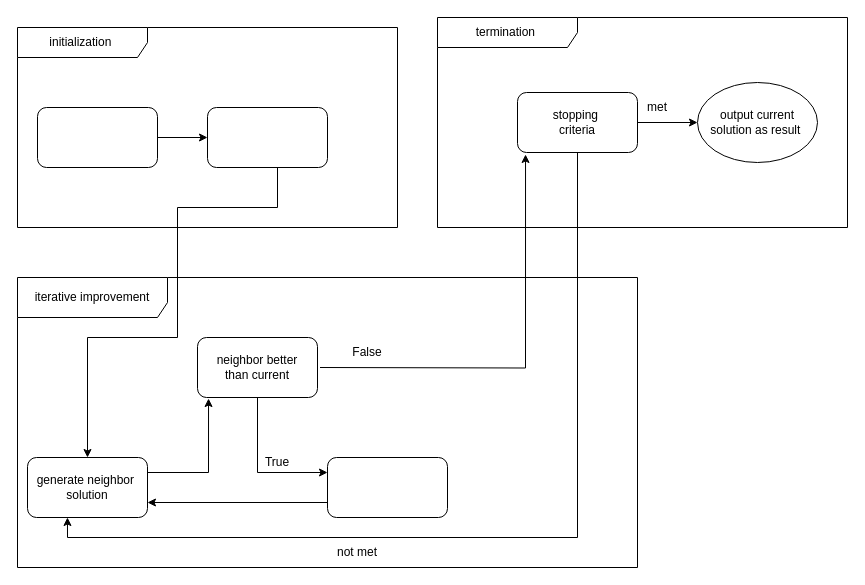
Image size: 865x585. Some labels were removed from this diagram. The centre of each missing label's shape, as x and y in pixels:
"evaluate current state" belongs at (267,137).
"initialize random solution" belongs at (97,137).
"upgrade current solution" belongs at (387,487).
